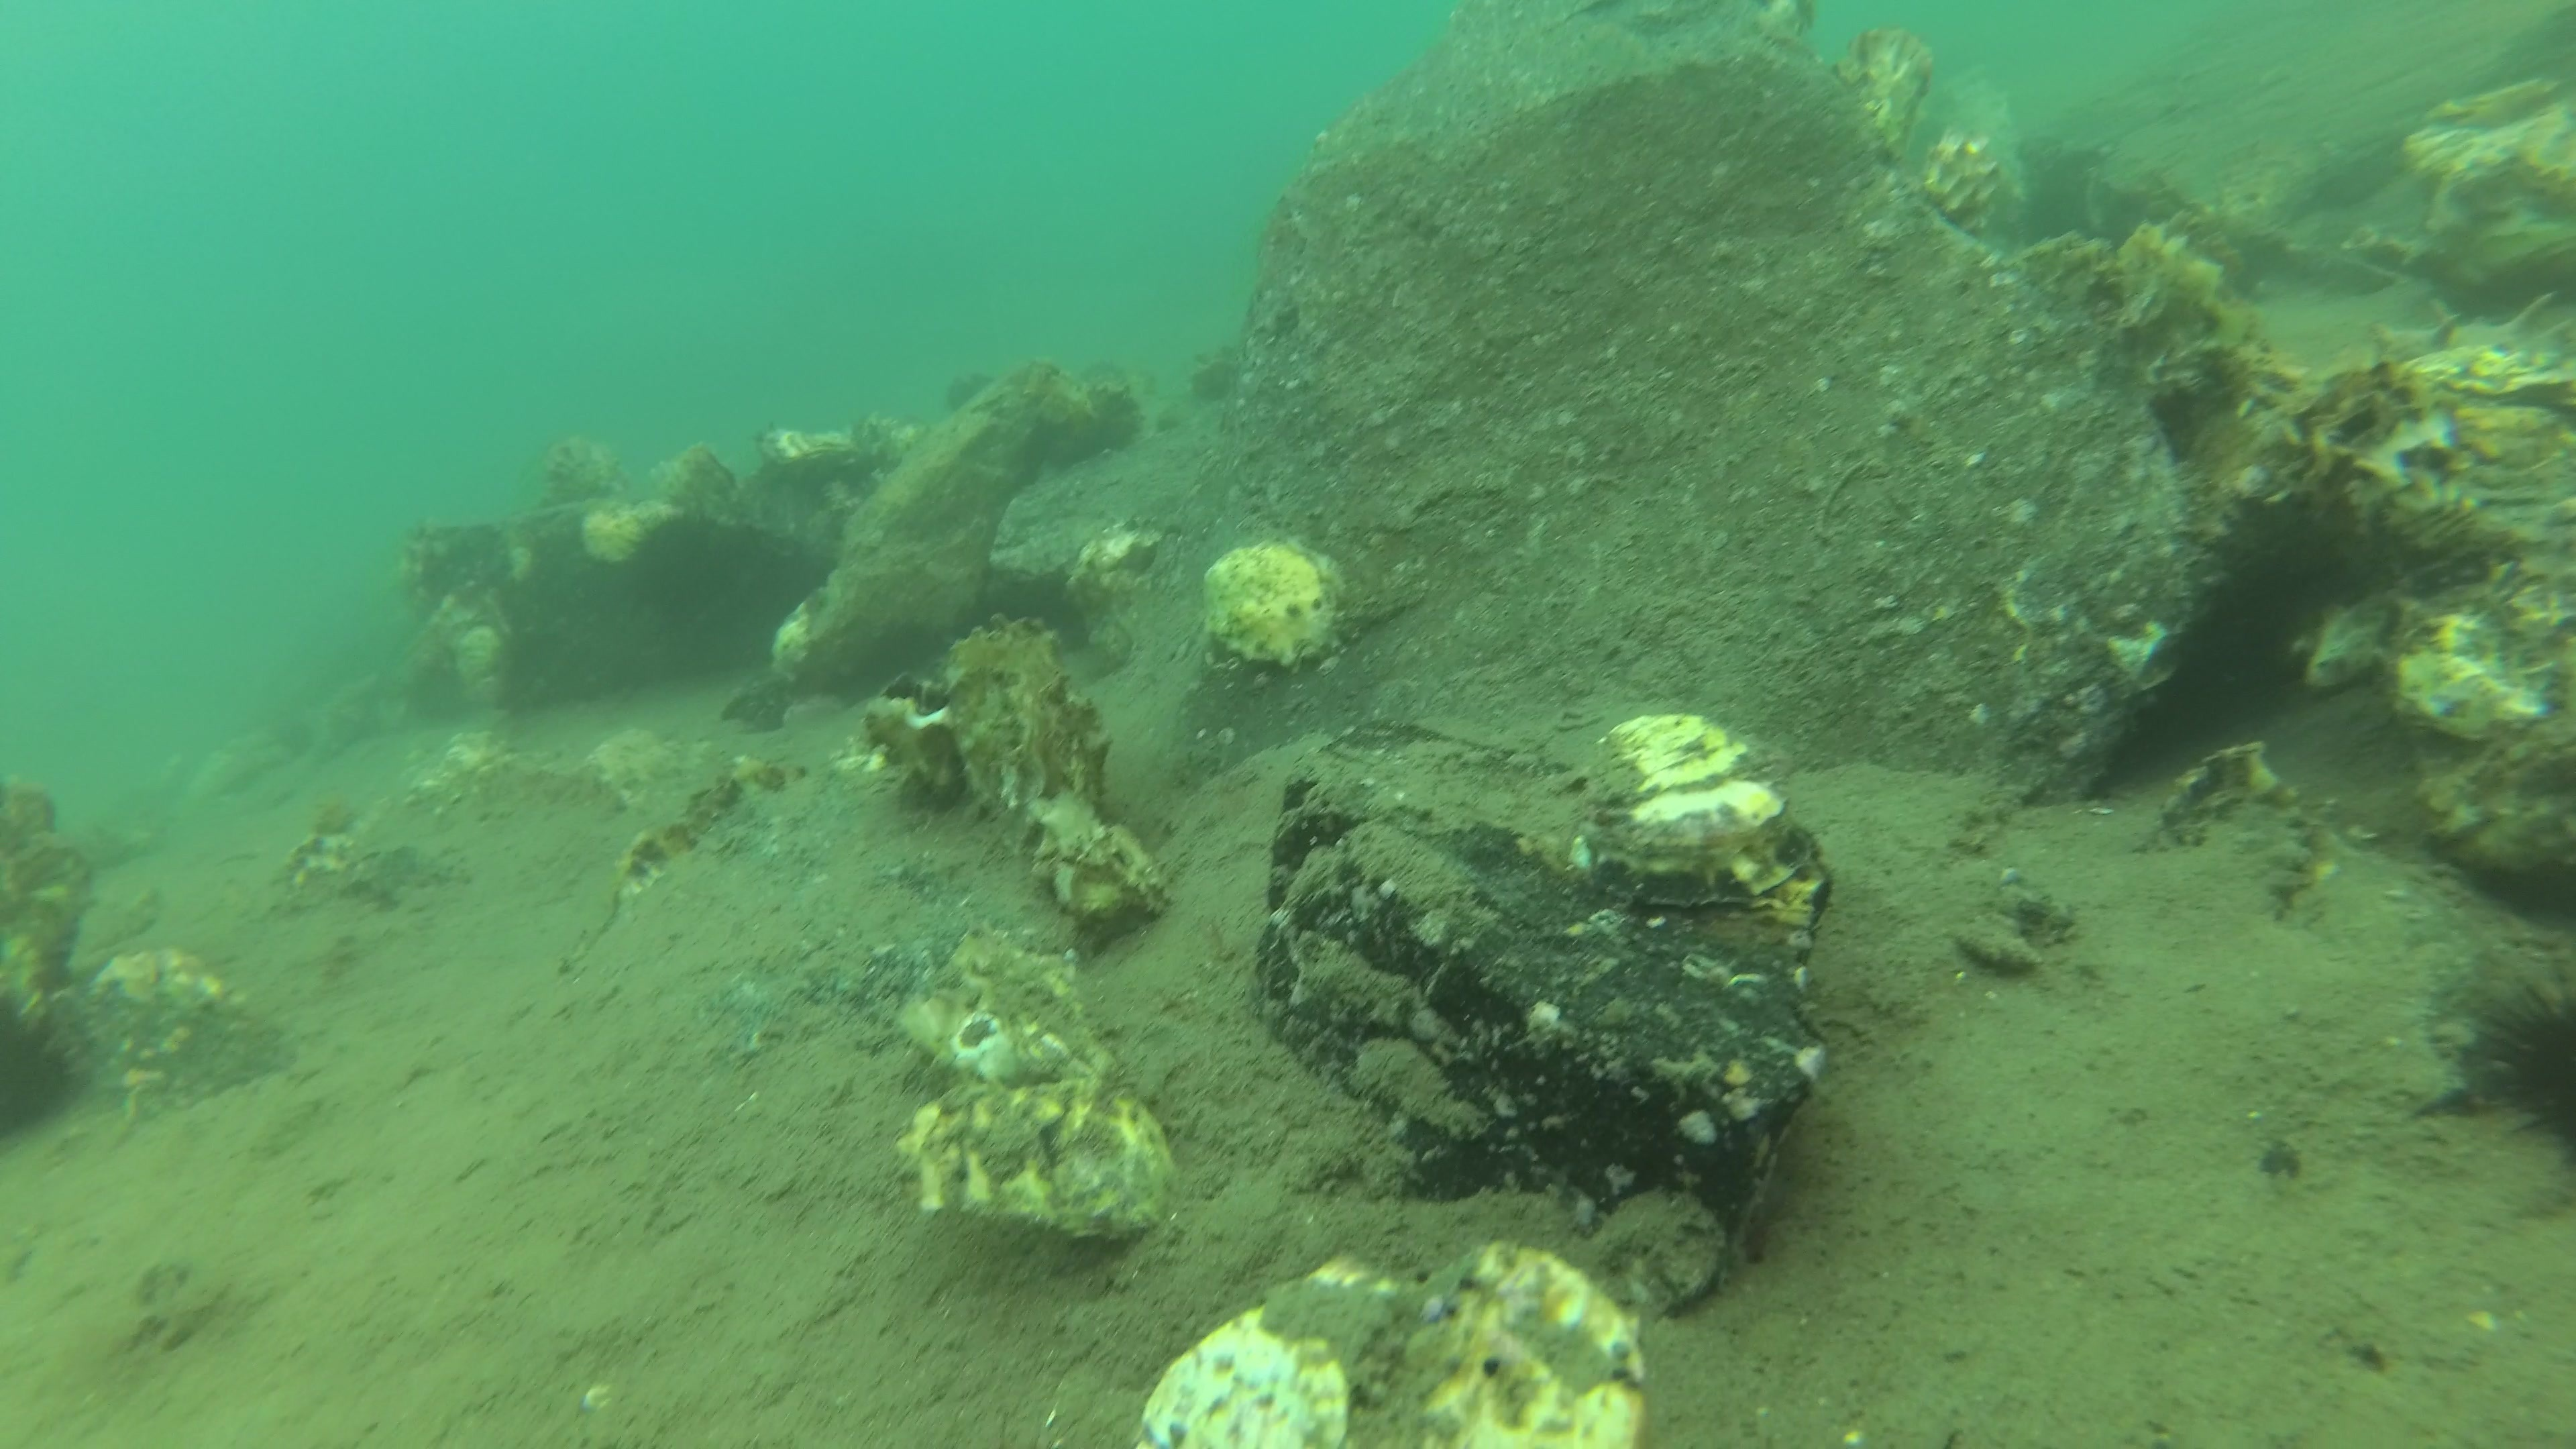echinus: (2449, 961, 2576, 1173), (623, 504, 754, 621), (0, 991, 88, 1138)
